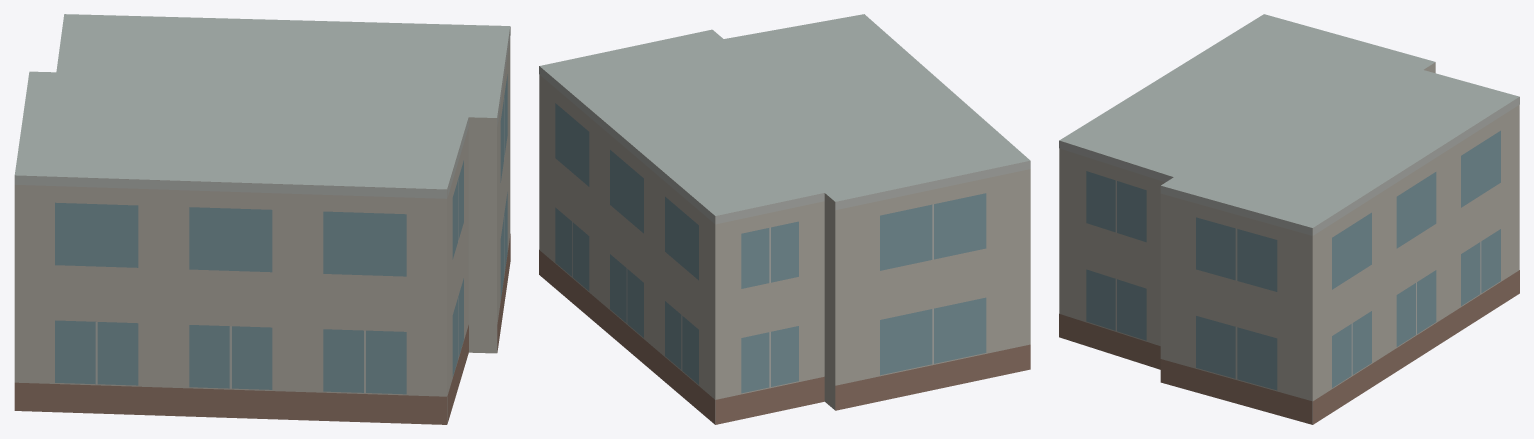
File: survey-upis-32773253.glb
The picture shows the model from 3 angles, left to right: view 1: azimuth 30°, elevation 25°; view 2: azimuth 150°, elevation 25°; view 3: azimuth 270°, elevation 25°; orthographic projection. The views are drawn at different scales.
Parts seen in each view (by area): view 1: survey-upis-32773253.tmp; view 2: survey-upis-32773253.tmp; view 3: survey-upis-32773253.tmp.
Boxes of the visible parts, x1,y1,x2,y2 form: survey-upis-32773253.tmp: [14, 14, 510, 424]; survey-upis-32773253.tmp: [539, 14, 1030, 424]; survey-upis-32773253.tmp: [1059, 14, 1519, 424].
Bounding box in the file's own units: 14.24 × 6.1 × 12.95.
